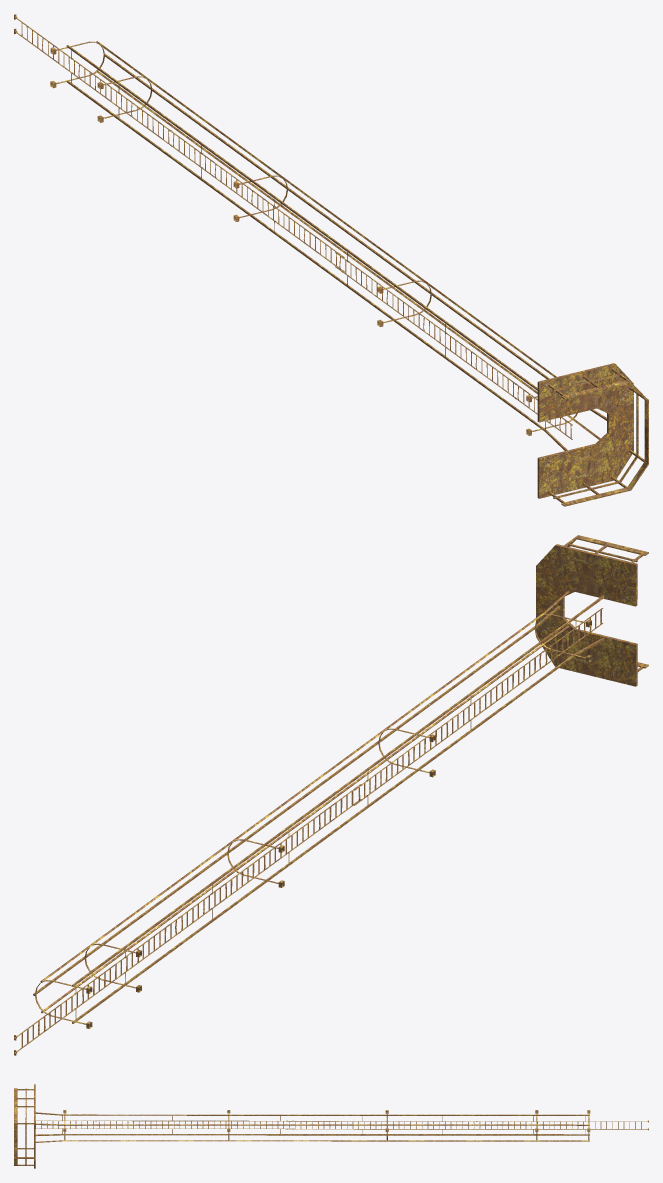
The model's file is leiter_kraftwerk.obj.
3 views of the same model, one above another, from view 1: azimuth 30°, elevation 25°; view 2: azimuth 150°, elevation 25°; view 3: azimuth 270°, elevation 25° (orthographic). The views are drawn at different scales.
Parts seen in each view (by area): view 1: MDL_Objec1; view 2: MDL_Objec1; view 3: MDL_Objec1.
Boxes of the visible parts, x1,y1,x2,y2 form: MDL_Objec1: (14, 14, 648, 506); MDL_Objec1: (14, 535, 648, 1055); MDL_Objec1: (14, 1084, 648, 1168).
Size of the model in its own units: 3.14 by 3.66 by 33.02.
1 material, 1 textured.
